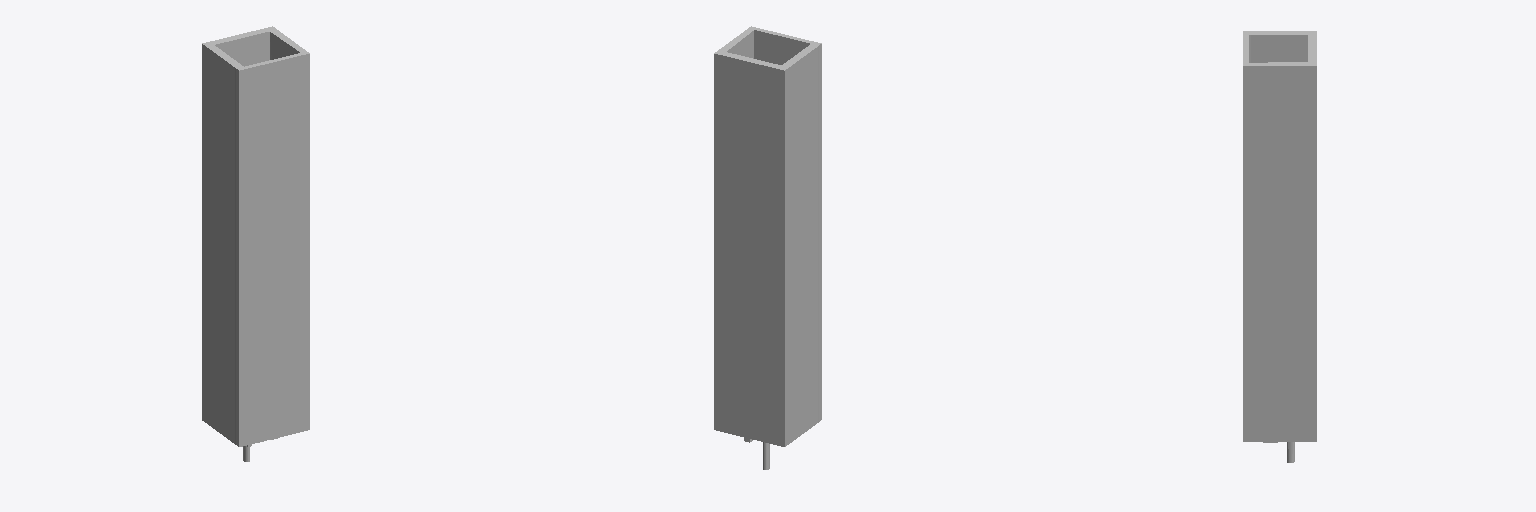
Rendered from snow_track_bounds.obj.
3 views of the same model, side by side, from view 1: azimuth 30°, elevation 25°; view 2: azimuth 150°, elevation 25°; view 3: azimuth 270°, elevation 25° (orthographic).
Size of the model in its own units: 32.59 by 183 by 29.58.